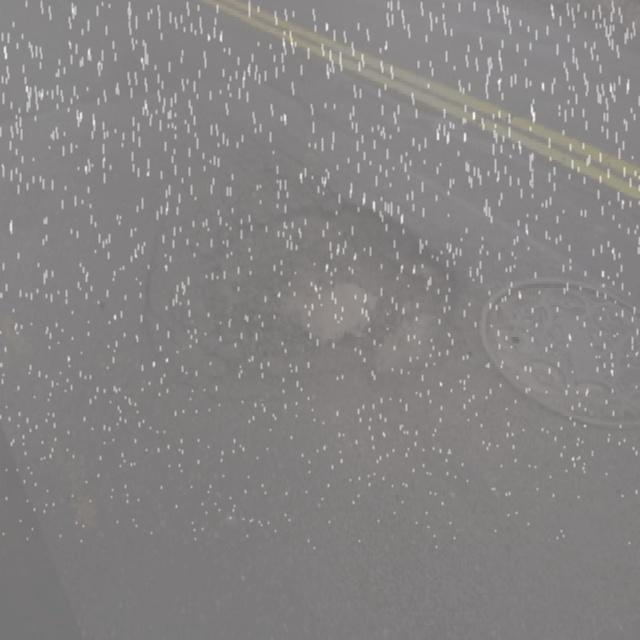Pothole: (198, 189, 468, 416)
